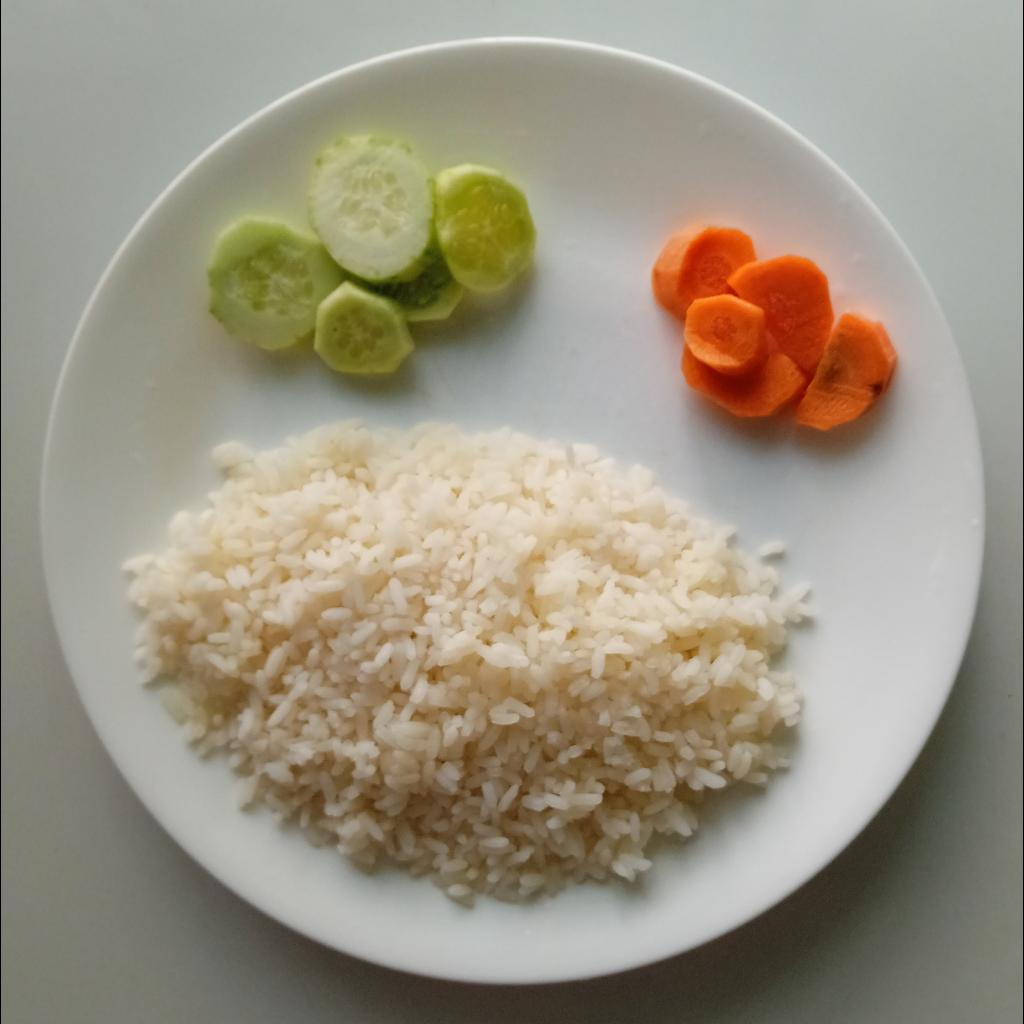carrot: (655, 224, 899, 431)
cucumber: (207, 137, 538, 375)
rice: (125, 410, 813, 904)
